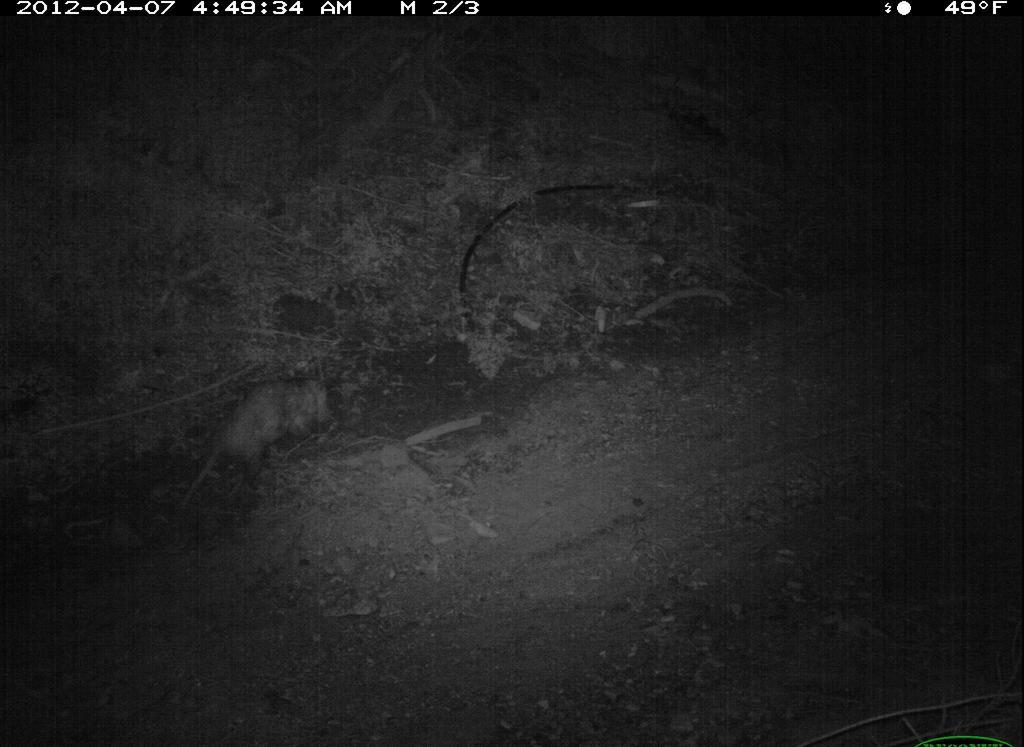opossum: (176, 375, 337, 523)
